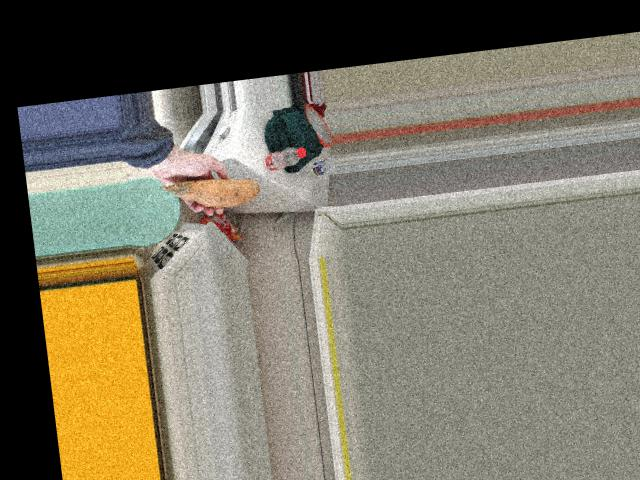sweet_potato: (172, 171, 252, 213)
